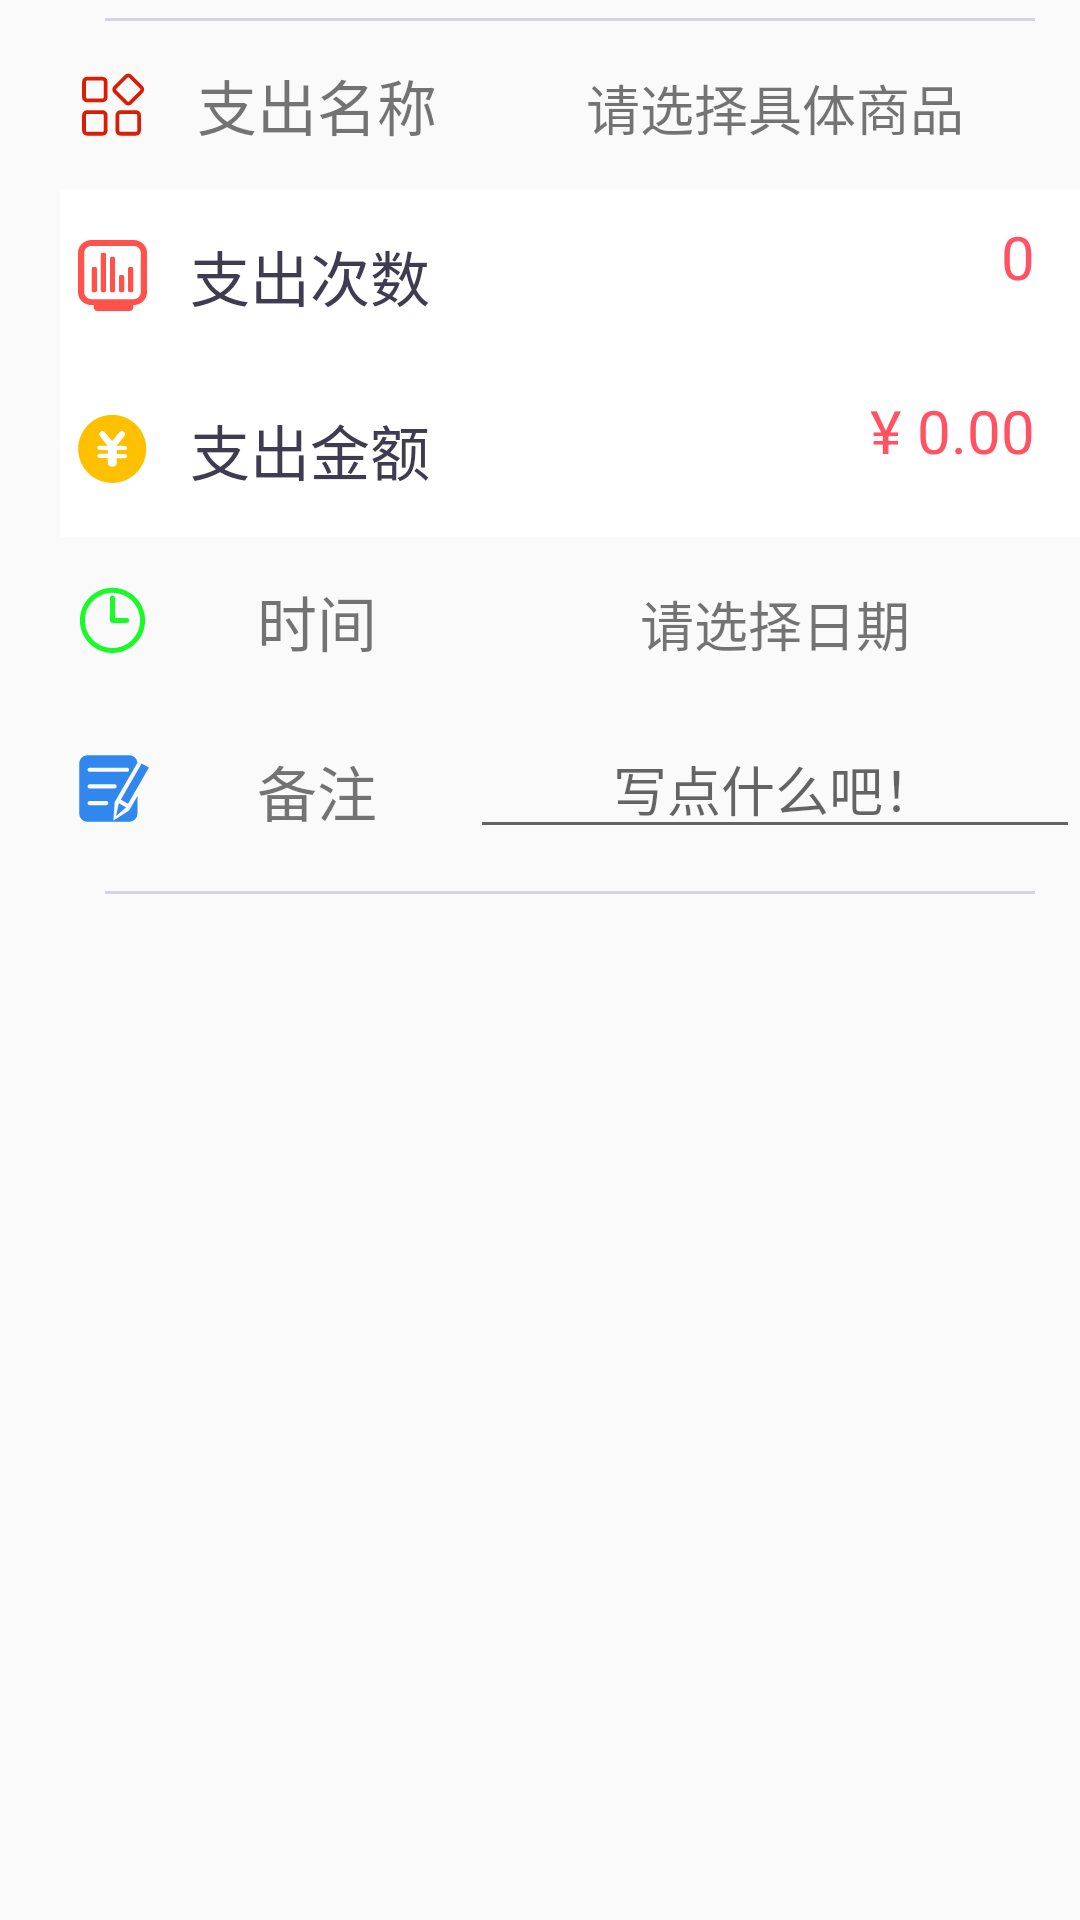

Screen size 1080x1920. Icon name, then its box in pixels as (x1, y1, x2, y2):
category: (82, 73, 145, 136)
note: (79, 755, 149, 822)
price: (78, 414, 147, 483)
time: (80, 587, 145, 653)
